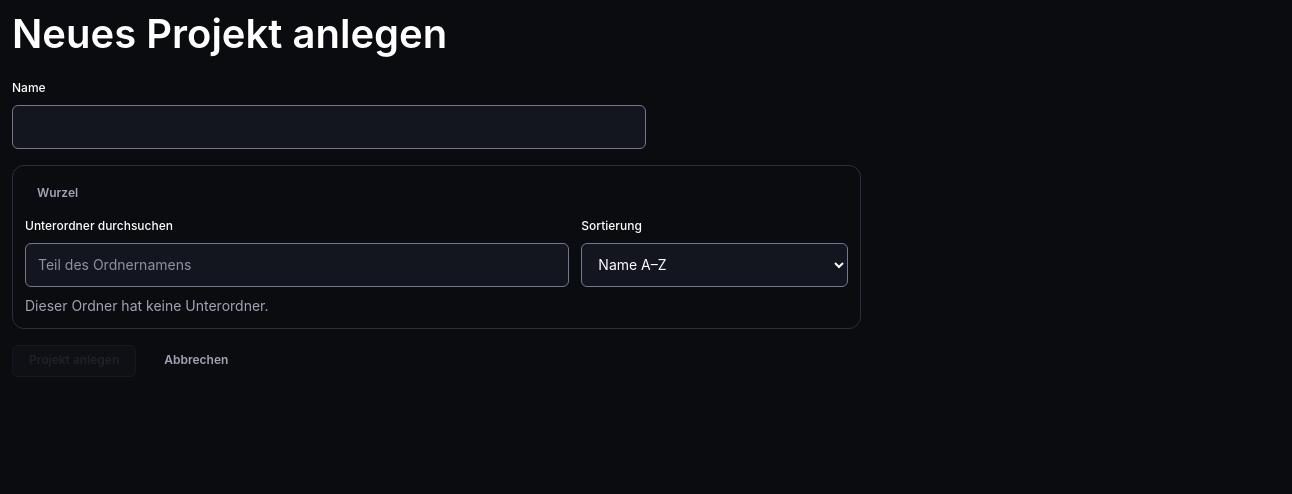
Test: ProjectCreatePage › shows the backend detail and keeps the form on a 409 name conflict without redirecting
Type "Costa Rica" into the field labelled "Name" at (329, 127), box [12,105,646,149]
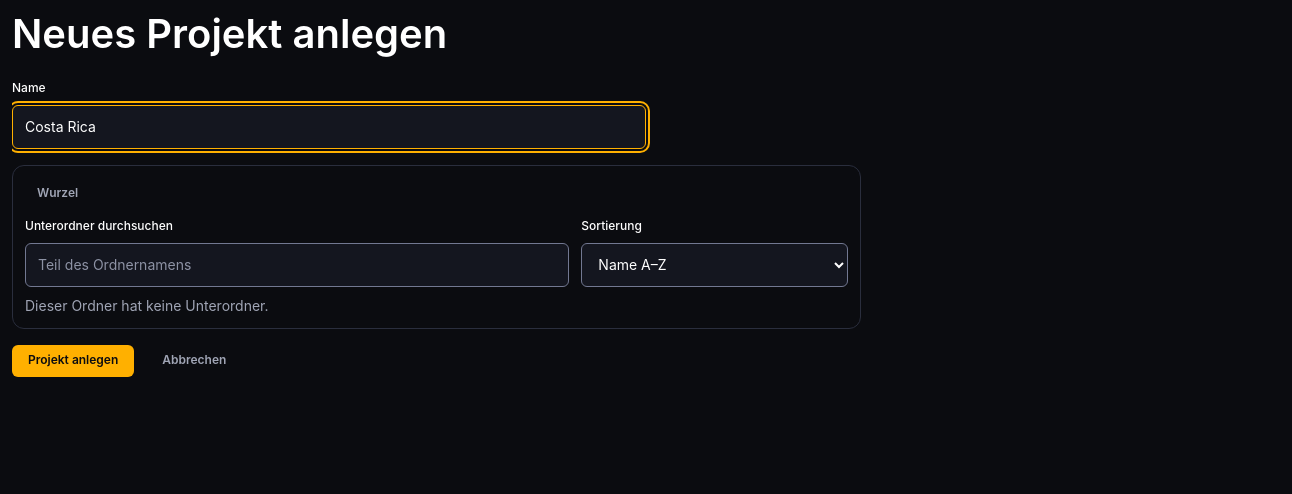
Click the button "Projekt anlegen" at (73, 361), box [12,345,134,377]
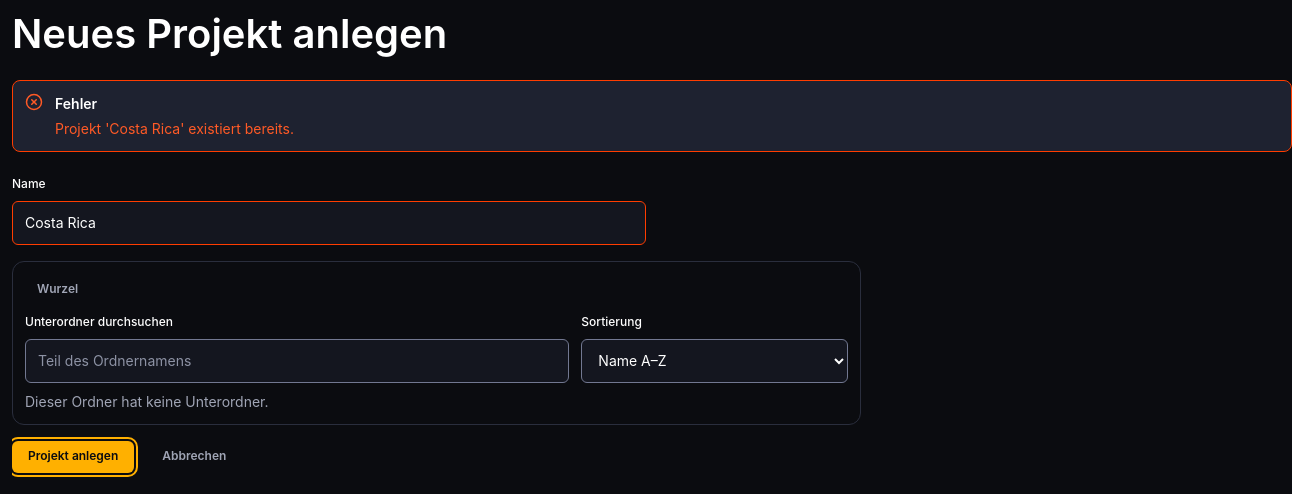
Now the message shows "Projekt 'Costa Rica' existiert bereits.", box [55,120,294,137]
